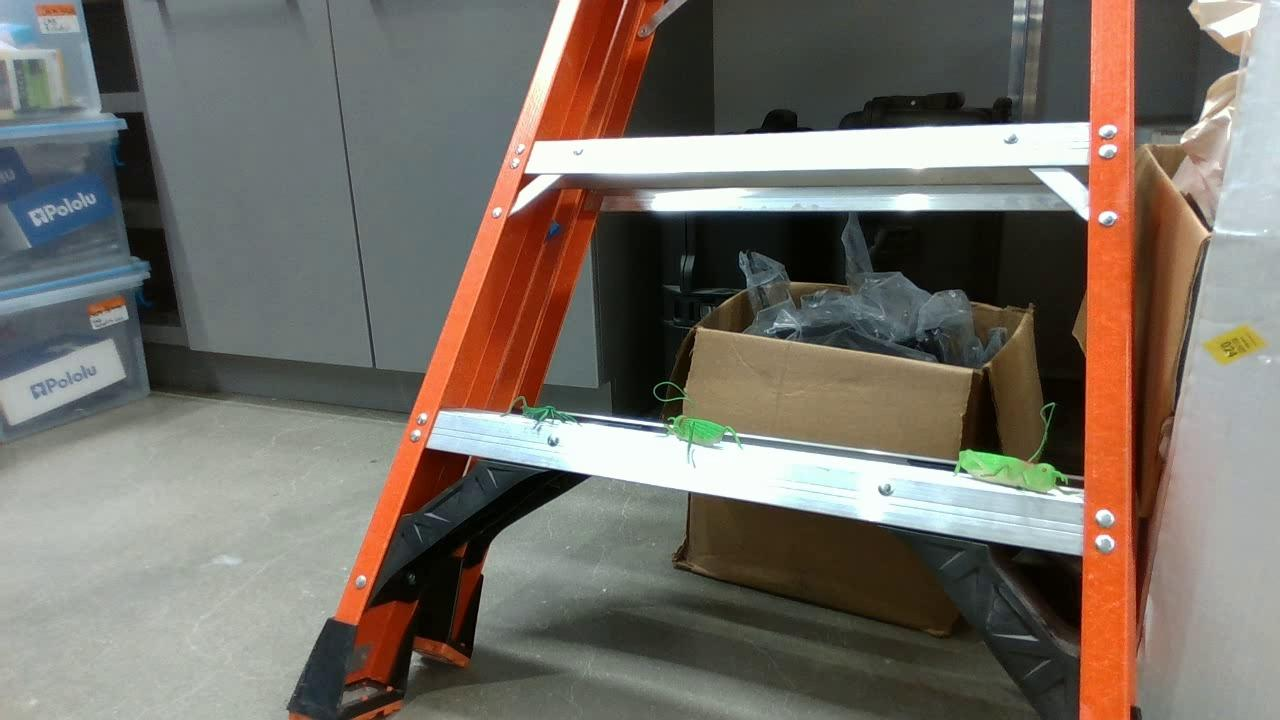grasshopper: (953, 448, 1067, 502), (667, 416, 743, 466)
